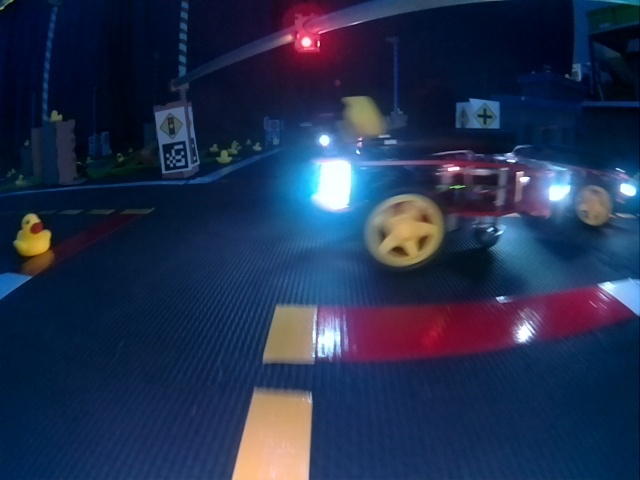Duckie: (344, 95, 386, 135), (14, 213, 52, 256), (217, 150, 231, 163), (49, 111, 62, 120), (17, 175, 26, 185), (253, 143, 261, 151)
Duckiebot: (311, 142, 549, 267)
Intersection sign: (473, 103, 500, 127)
QR code: (160, 141, 187, 171), (269, 131, 279, 141)
Signal sign: (158, 111, 185, 140)
Stop sign: (268, 120, 279, 130)
Traffic light: (294, 17, 320, 51)
